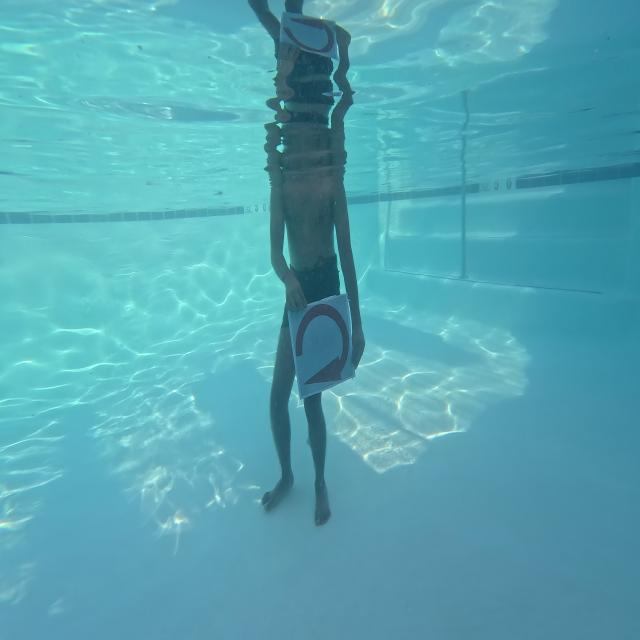red_side: (278, 295, 360, 402)
